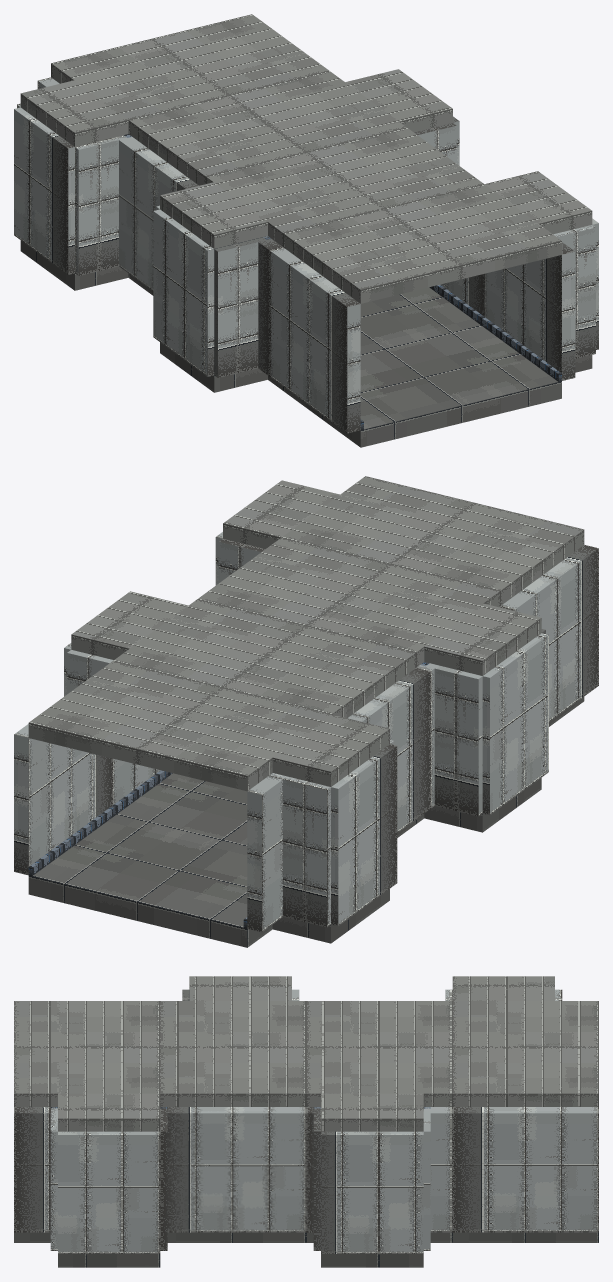
File: shell_corridor_bays.glb
3 views of the same model, one above another, from view 1: azimuth 30°, elevation 25°; view 2: azimuth 150°, elevation 25°; view 3: azimuth 270°, elevation 25° (orthographic). The views are drawn at different scales.
Parts seen in each view (by area): view 1: shell_corridor_bays; view 2: shell_corridor_bays; view 3: shell_corridor_bays.
Part boxes in pixels (left/top/right/bottom): shell_corridor_bays: left=14, top=14, right=598, bottom=447; shell_corridor_bays: left=14, top=476, right=598, bottom=947; shell_corridor_bays: left=14, top=976, right=598, bottom=1267.
Bounding box in the file's own units: 9.6 × 4.5 × 16.
Materials: 34 (34 with a texture image).
